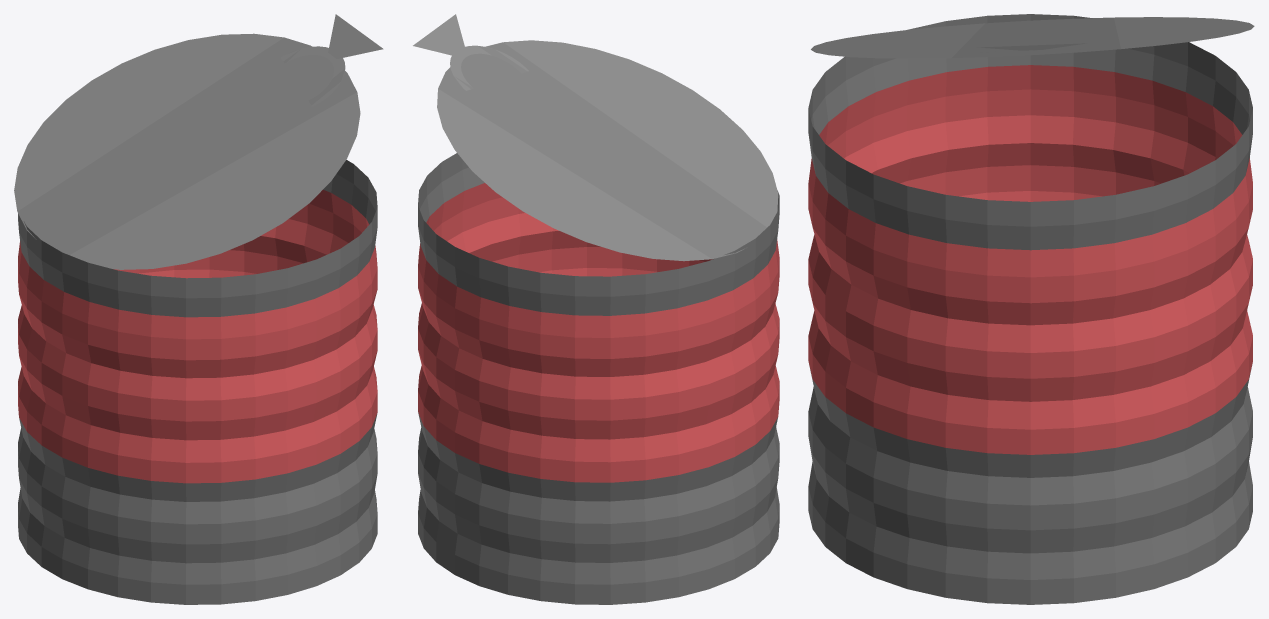
File: Can.fbx
The picture shows the model from 3 angles, left to right: view 1: azimuth 30°, elevation 25°; view 2: azimuth 150°, elevation 25°; view 3: azimuth 270°, elevation 25°; orthographic projection. The views are drawn at different scales.
Parts seen in each view (by area): view 1: Plane; view 2: Plane; view 3: Plane.
Part boxes in pixels (x1=…): Plane: x1=14, y1=14, x2=383, y2=604; Plane: x1=413, y1=14, x2=779, y2=604; Plane: x1=808, y1=14, x2=1254, y2=604.
Size of the model in its own units: 21.59 by 29.52 by 21.13.
